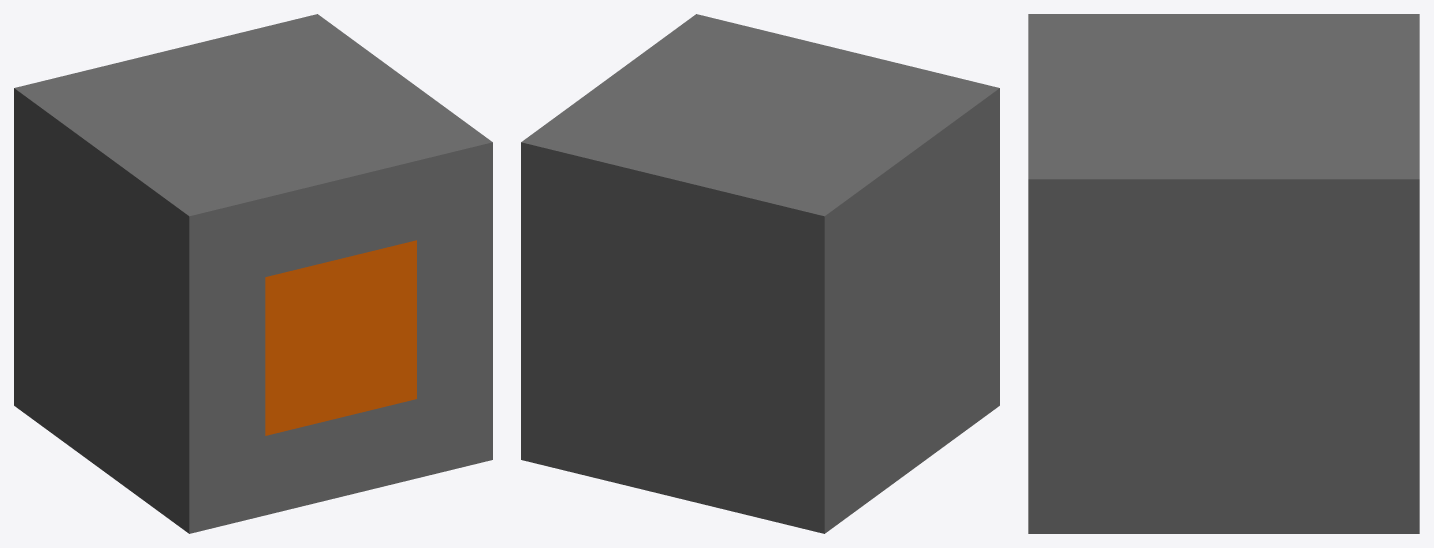
File: Furnace.fbx
3 views of the same model, side by side, from view 1: azimuth 30°, elevation 25°; view 2: azimuth 150°, elevation 25°; view 3: azimuth 270°, elevation 25° (orthographic). The views are drawn at different scales.
Parts seen in each view (by area): view 1: Cube; view 2: Cube; view 3: Cube.
Boxes of the visible parts, x1,y1,x2,y2 form: Cube: (14,14,492,533); Cube: (521,14,999,533); Cube: (1028,14,1419,533).
Size of the model in its own units: 200 by 200 by 200.
